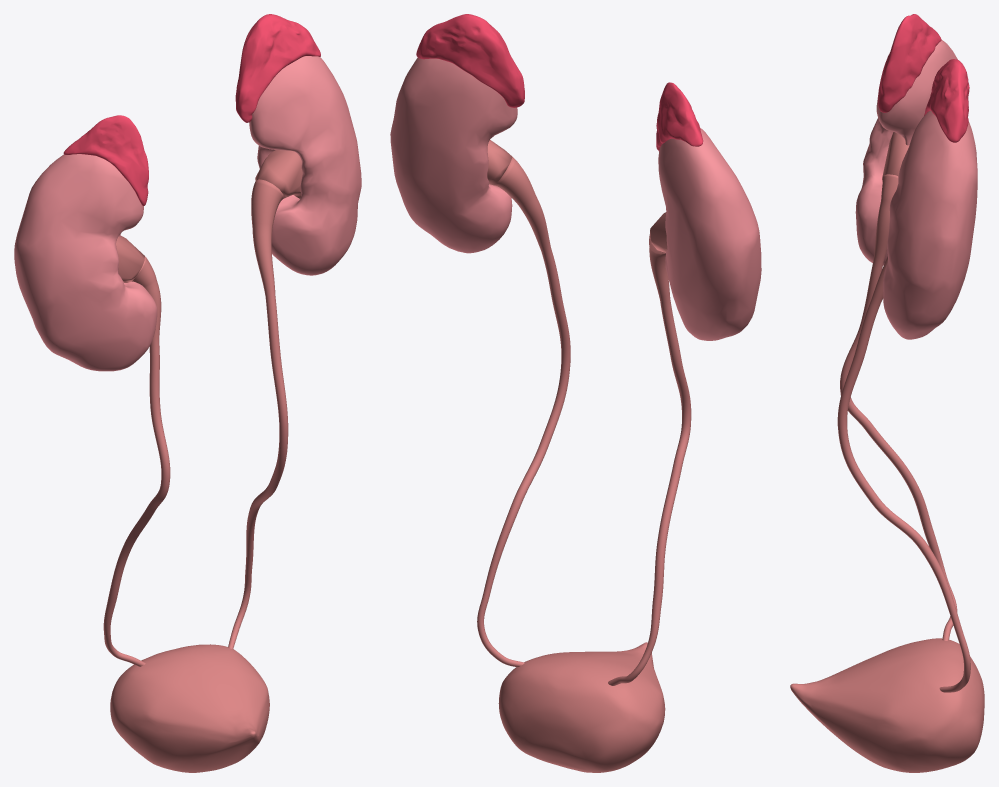
The model's file is Kidney.glb.
3 views of the same model, side by side, from view 1: azimuth 30°, elevation 25°; view 2: azimuth 150°, elevation 25°; view 3: azimuth 270°, elevation 25° (orthographic). The views are drawn at different scales.
Visible parts, largest first — view 1: Kidney.r, Kidney.l, Urinary bladder, Ureter.l, Suprarenal gland.l, Ureter.r, Suprarenal gland.r, Renal pelvis.l, Renal pelvis.r; view 2: Kidney.l, Urinary bladder, Kidney.r, Ureter.l, Suprarenal gland.l, Ureter.r, Suprarenal gland.r, Renal pelvis.l; view 3: Urinary bladder, Kidney.l, Kidney.r, Ureter.l, Ureter.r, Suprarenal gland.r, Suprarenal gland.l, Renal pelvis.r.
Boxes of the visible parts, x1,y1,x2,y2 form: Kidney.r: (14, 154, 157, 371); Kidney.l: (249, 56, 361, 275); Urinary bladder: (110, 644, 269, 772); Ureter.l: (228, 179, 288, 648); Suprarenal gland.l: (235, 14, 320, 122); Ureter.r: (103, 256, 170, 666); Suprarenal gland.r: (63, 115, 148, 205); Renal pelvis.l: (255, 150, 302, 198); Renal pelvis.r: (116, 236, 144, 282); Kidney.l: (390, 58, 517, 253); Urinary bladder: (498, 642, 665, 772); Kidney.r: (658, 128, 761, 340); Ureter.l: (477, 156, 570, 667); Suprarenal gland.l: (416, 14, 524, 107); Ureter.r: (608, 234, 691, 685); Suprarenal gland.r: (656, 82, 703, 151); Renal pelvis.l: (487, 140, 512, 185); Urinary bladder: (790, 638, 984, 772); Kidney.l: (883, 110, 977, 339); Kidney.r: (855, 40, 957, 265); Ureter.l: (837, 256, 970, 692); Ureter.r: (840, 174, 957, 640); Suprarenal gland.r: (878, 14, 941, 112); Suprarenal gland.l: (924, 59, 969, 142); Renal pelvis.r: (882, 132, 909, 178).
Bounding box in the file's own units: 0.1938 × 0.3872 × 0.0907.
